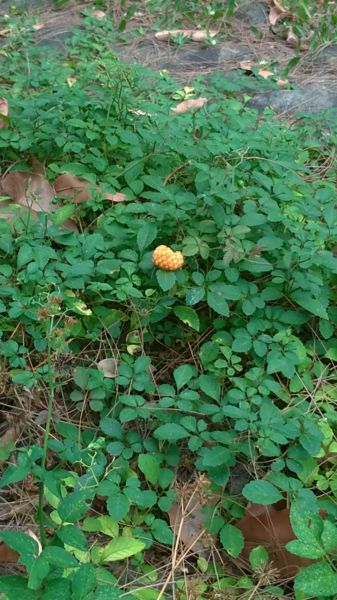eggs: (148, 241, 187, 276)
